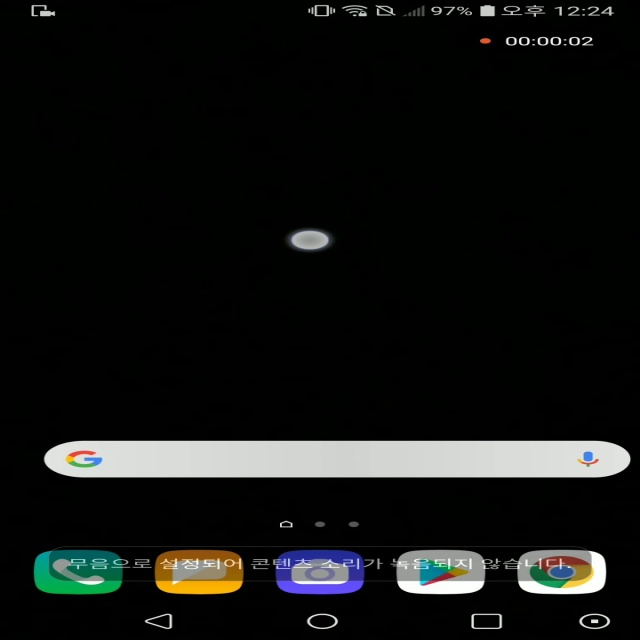Cursor: (288, 229, 332, 252)
